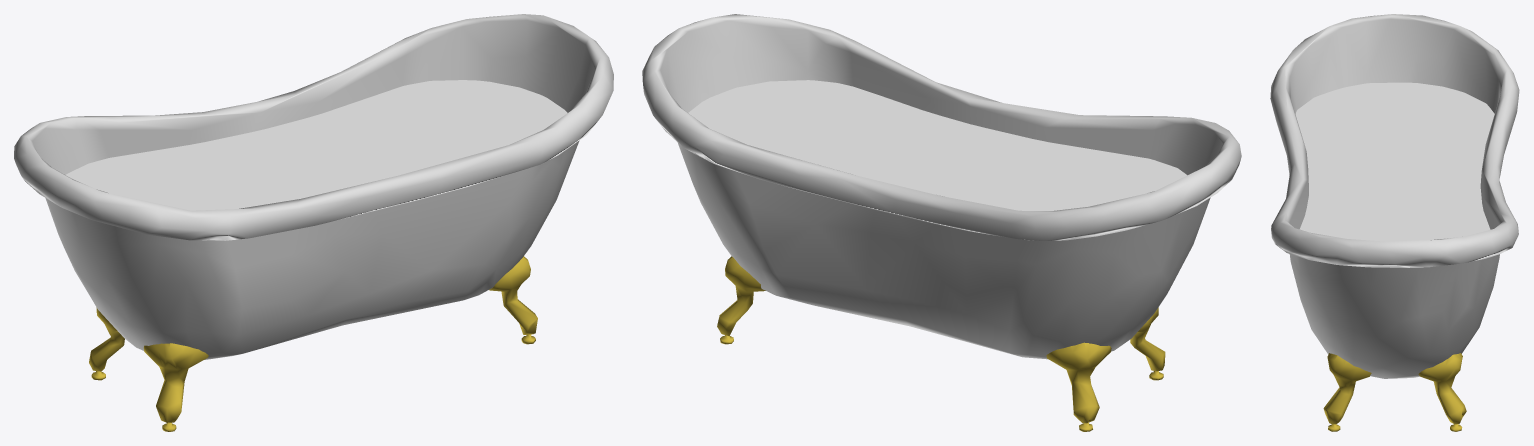
The model's file is bathTub_PlaceHolder.fbx.
3 renders of one model, left to right at view 1: azimuth 30°, elevation 25°; view 2: azimuth 150°, elevation 25°; view 3: azimuth 270°, elevation 25°, orthographic. The views are drawn at different scales.
Parts seen in each view (by area): view 1: Rectangle001, Plane, Cylinder003; view 2: Rectangle001, Plane, Cylinder003; view 3: Rectangle001, Plane, Cylinder003.
Boxes of the visible parts, bbox=[...] form: Rectangle001: bbox=[14, 14, 613, 359]; Plane: bbox=[66, 80, 567, 210]; Cylinder003: bbox=[89, 256, 537, 423]; Rectangle001: bbox=[642, 14, 1241, 359]; Plane: bbox=[688, 80, 1187, 210]; Cylinder003: bbox=[717, 256, 1165, 423]; Rectangle001: bbox=[1270, 14, 1519, 378]; Plane: bbox=[1295, 82, 1494, 241]; Cylinder003: bbox=[1323, 353, 1466, 424].
Bounding box in the file's own units: 175 × 78 × 77.94.
